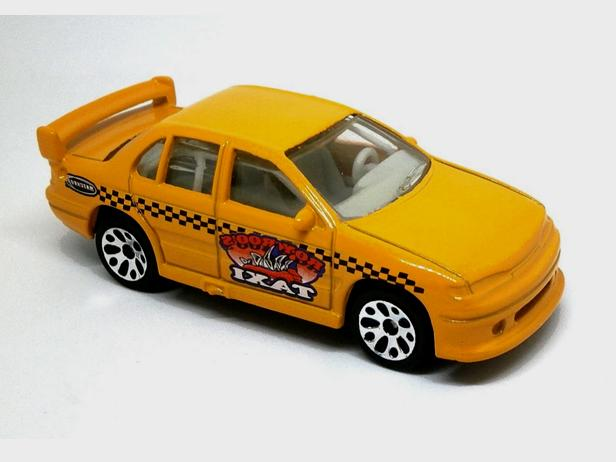toy-car: (36, 76, 567, 373)
